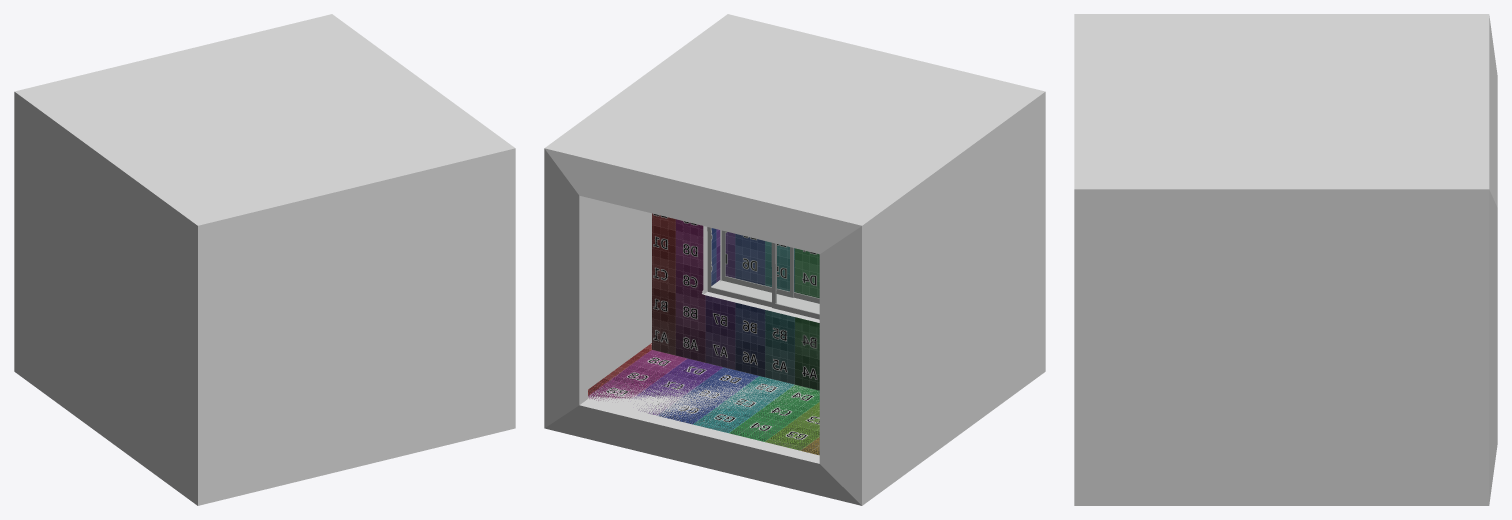
3 renders of one model, left to right at view 1: azimuth 30°, elevation 25°; view 2: azimuth 150°, elevation 25°; view 3: azimuth 270°, elevation 25°, orthographic. The views are drawn at different scales.
Visible parts, largest first — view 1: __LIGHT_BLOCKER__300; view 2: __LIGHT_BLOCKER__300, wall.001, ceiling, wall, floor, __ROOM_FLOOR__floor, Window, wall.003, Window.001, wall.004; view 3: __LIGHT_BLOCKER__300.
Boxes of the visible parts, x1,y1,x2,y2 form: __LIGHT_BLOCKER__300: (14,14,515,505); __LIGHT_BLOCKER__300: (544,14,1045,505); wall.001: (652,213,819,390); ceiling: (588,343,819,454); wall: (652,215,819,389); floor: (588,343,819,454); __ROOM_FLOOR__floor: (588,371,817,423); Window: (707,227,819,319); wall.003: (652,214,819,389); Window.001: (721,230,819,303); wall.004: (702,280,819,313); __LIGHT_BLOCKER__300: (1074,14,1497,505).
Size of what is drawn, in the model's own units: 3.33 by 2.81 by 3.4.
10 materials, 5 textured.
